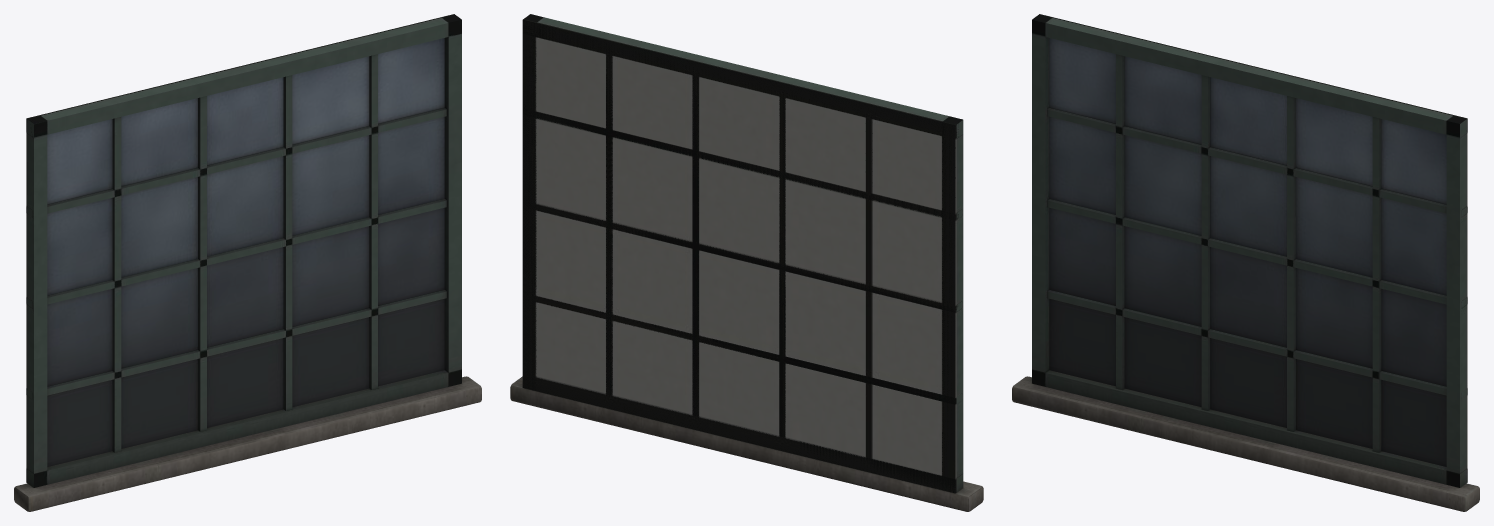
File: win_factory_wide.glb
3 views of the same model, side by side, from view 1: azimuth 30°, elevation 25°; view 2: azimuth 150°, elevation 25°; view 3: azimuth 330°, elevation 25° (orthographic).
Visible parts, largest first — view 1: win_factory_wide; view 2: win_factory_wide; view 3: win_factory_wide.
Boxes of the visible parts, left/top/right/bottom form: win_factory_wide: left=14, top=14, right=481, bottom=511; win_factory_wide: left=510, top=14, right=983, bottom=511; win_factory_wide: left=1012, top=14, right=1479, bottom=511.
Bounding box in the file's own units: 1.7 × 1.36 × 0.1.
Materials: 1 (1 with a texture image).
